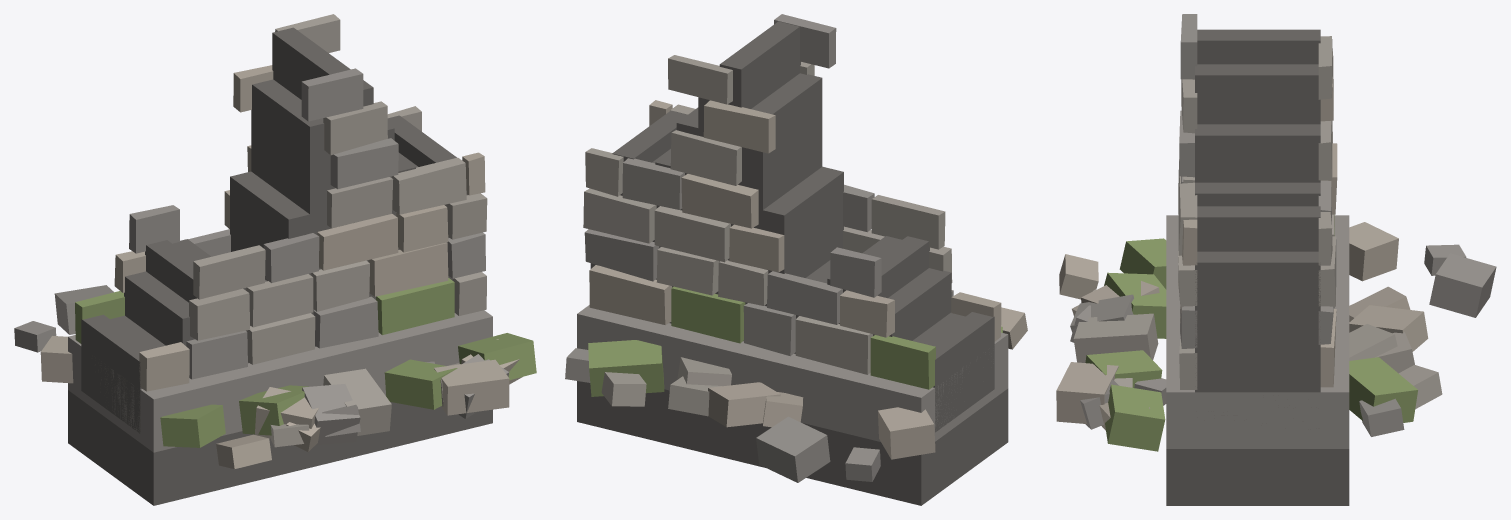
The model's file is SM_Wall_Ruined.fbx.
The picture shows the model from 3 angles, left to right: view 1: azimuth 30°, elevation 25°; view 2: azimuth 150°, elevation 25°; view 3: azimuth 270°, elevation 25°; orthographic projection. The views are drawn at different scales.
Parts seen in each view (by area): view 1: SM_Wall_Ruined; view 2: SM_Wall_Ruined; view 3: SM_Wall_Ruined.
Part boxes in pixels (x1,y1,x2,y2): SM_Wall_Ruined: (14,14,536,505); SM_Wall_Ruined: (565,14,1027,505); SM_Wall_Ruined: (1056,14,1496,505).
Bounding box in the file's own units: 4.43 × 4.22 × 4.21.
